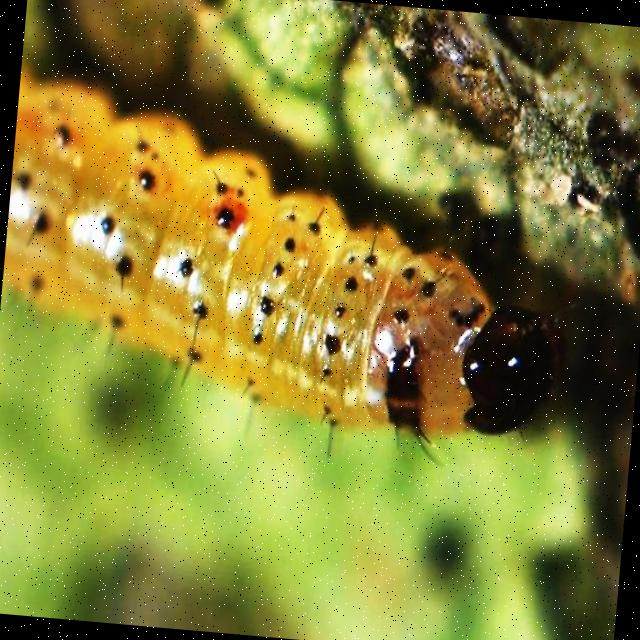worm: (1, 67, 590, 483), (453, 295, 577, 448)
